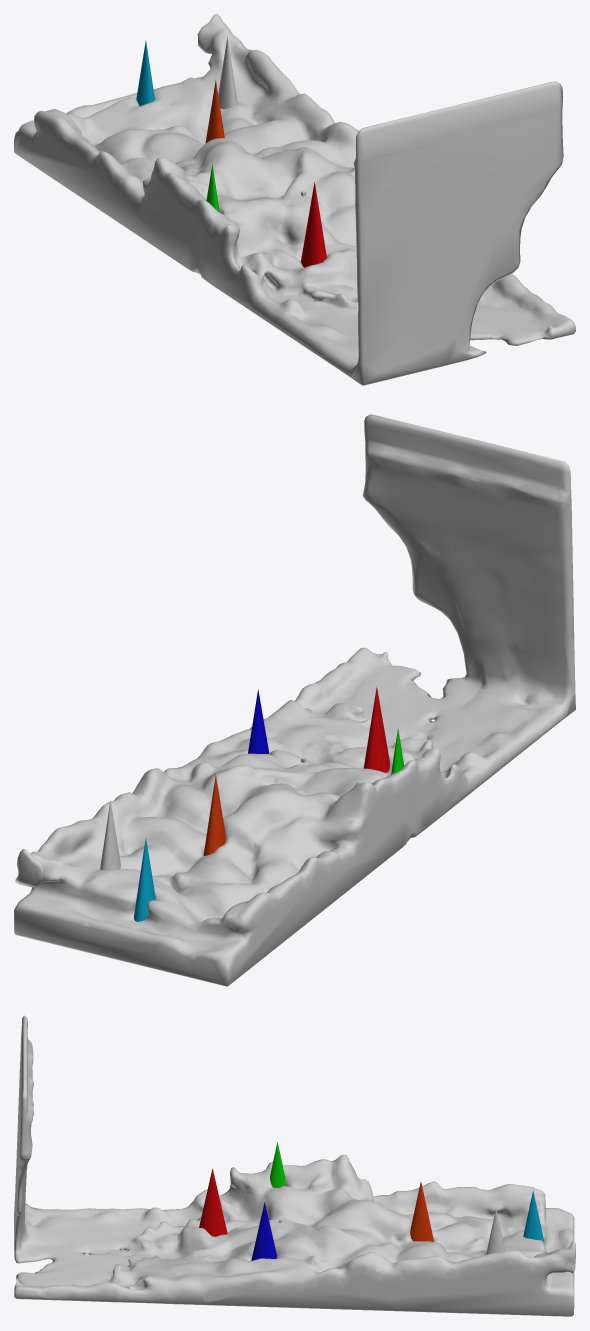
3 renders of one model, top to bottom at view 1: azimuth 30°, elevation 25°; view 2: azimuth 150°, elevation 25°; view 3: azimuth 270°, elevation 25°, orthographic. The views are drawn at different scales.
Parts seen in each view (by area): view 1: Liquid_Domain, 円錐.001, 円錐, 円錐.005, 円錐.004; view 2: Liquid_Domain, 円錐.001, 円錐.004, 円錐.005, 円錐, 円錐.002; view 3: Liquid_Domain, 円錐.001, 円錐.004, 円錐.002, 円錐.005, 円錐, 円錐.003.
Boxes of the visible parts, x1,y1,x2,y2 form: Liquid_Domain: (14,14,575,385); 円錐.001: (301,182,326,267); 円錐: (218,37,237,109); 円錐.005: (136,40,154,106); 円錐.004: (205,80,224,143); Liquid_Domain: (14,414,575,986); 円錐.001: (363,686,389,772); 円錐.004: (203,774,225,855); 円錐.005: (134,838,155,921); 円錐: (100,800,120,869); 円錐.002: (248,689,269,753); Liquid_Domain: (14,1015,575,1316); 円錐.001: (199,1168,227,1236); 円錐.004: (410,1181,433,1241); 円錐.002: (251,1202,276,1260); 円錐.005: (523,1190,546,1252); 円錐: (486,1208,505,1254); 円錐.003: (270,1142,285,1187).
Size of the model in its own units: 129 by 157 by 362.
